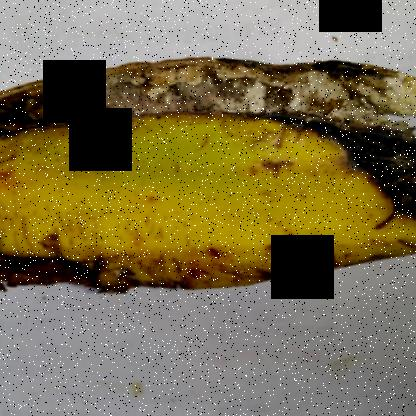rotten: (0, 24, 310, 143), (277, 37, 415, 266), (0, 216, 171, 326)
